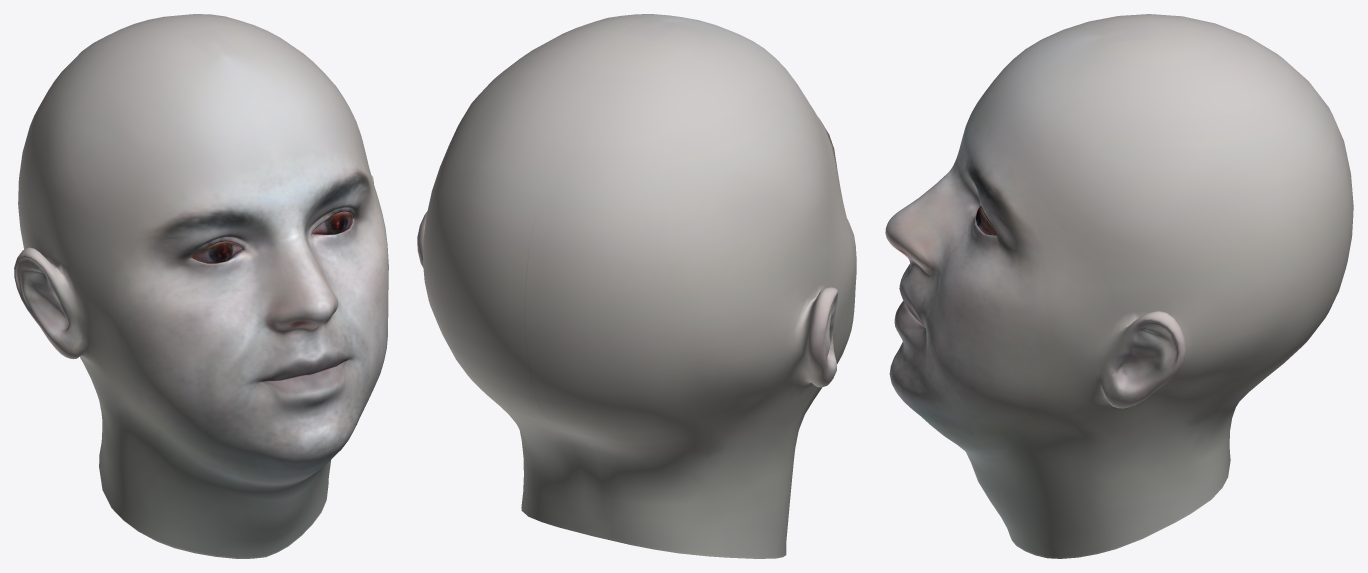
3 renders of one model, left to right at view 1: azimuth 30°, elevation 25°; view 2: azimuth 150°, elevation 25°; view 3: azimuth 270°, elevation 25°, orthographic. The views are drawn at different scales.
Visible parts, largest first — view 1: skin_hi, eyeR_hi, eyeL_hi; view 2: skin_hi; view 3: skin_hi.
Boxes of the visible parts, box(x1,y1,x2,y2) form: skin_hi: box(14, 14, 388, 558); eyeR_hi: box(191, 241, 241, 263); eyeL_hi: box(312, 211, 352, 234); skin_hi: box(417, 14, 856, 558); skin_hi: box(885, 14, 1353, 558).
Bounding box in the file's own units: 217 × 281 × 237.
